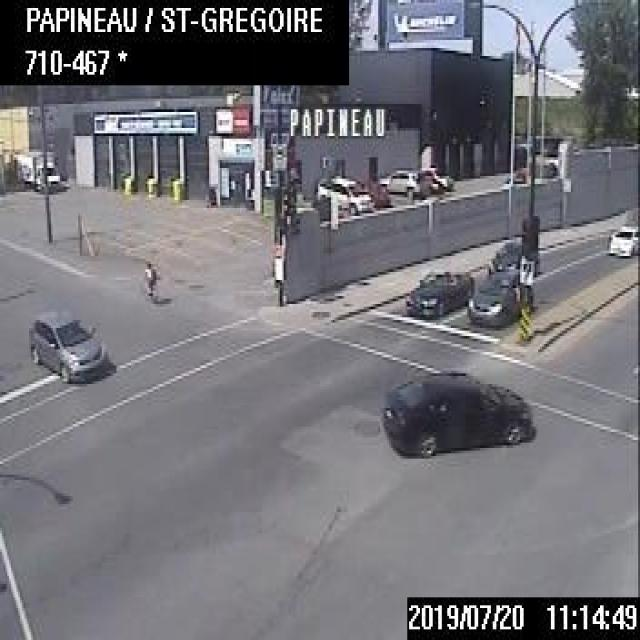pedestrian: (144, 258, 154, 298)
vehicle: (378, 368, 529, 453), (26, 304, 104, 381), (464, 262, 534, 328), (402, 264, 474, 321), (312, 169, 372, 215), (12, 144, 62, 192), (487, 239, 538, 278), (376, 167, 429, 198), (606, 222, 638, 256)
